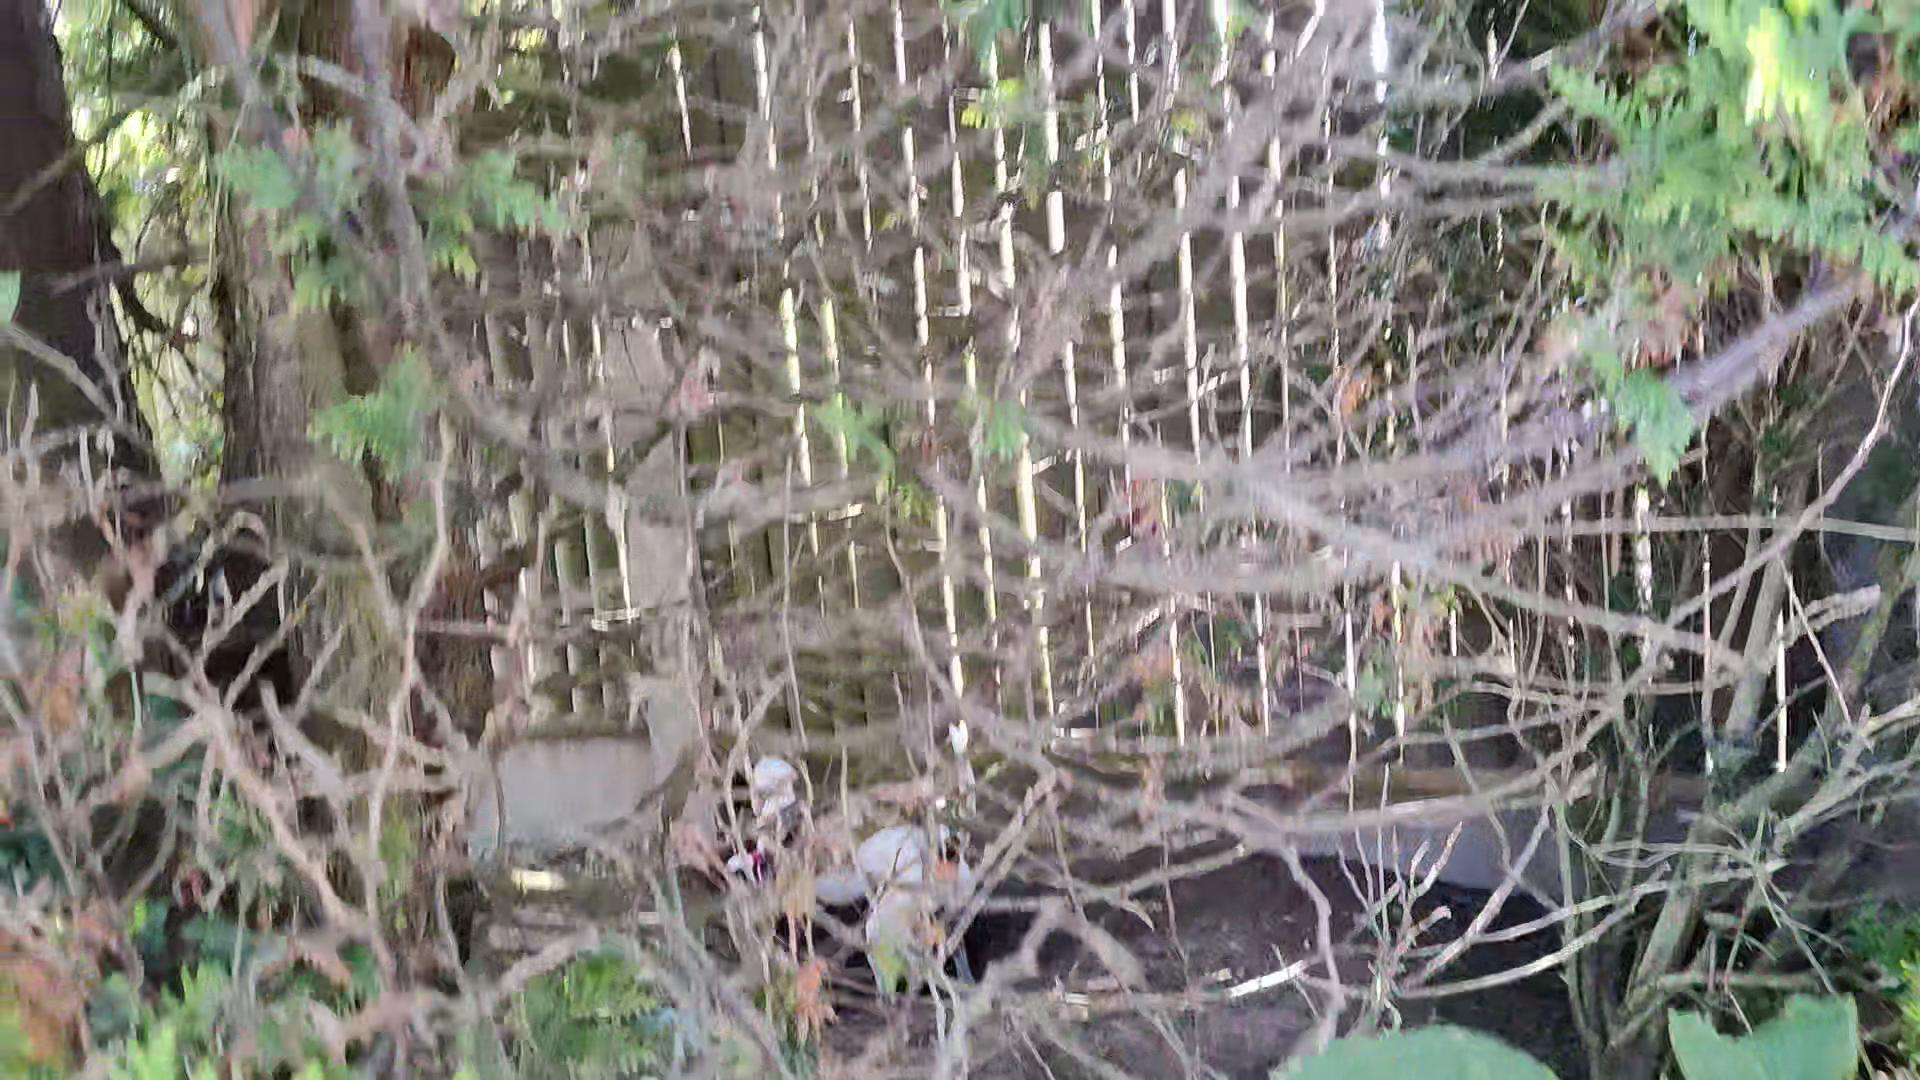Dog: (713, 716, 982, 1000)
